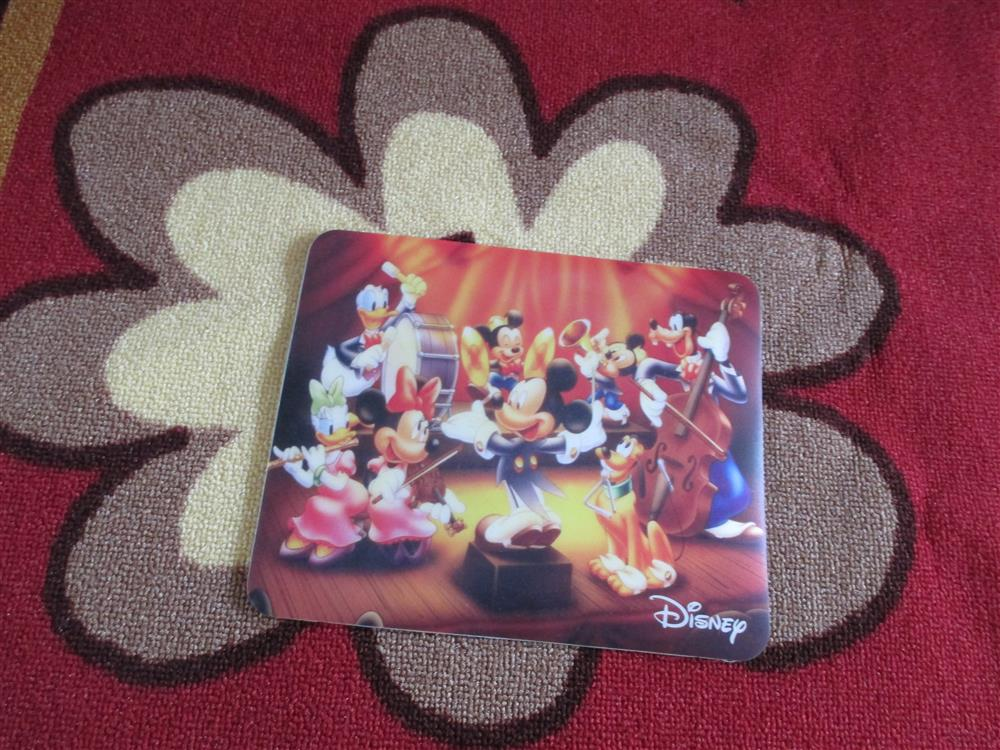disney_mat: (244, 228, 772, 662)
